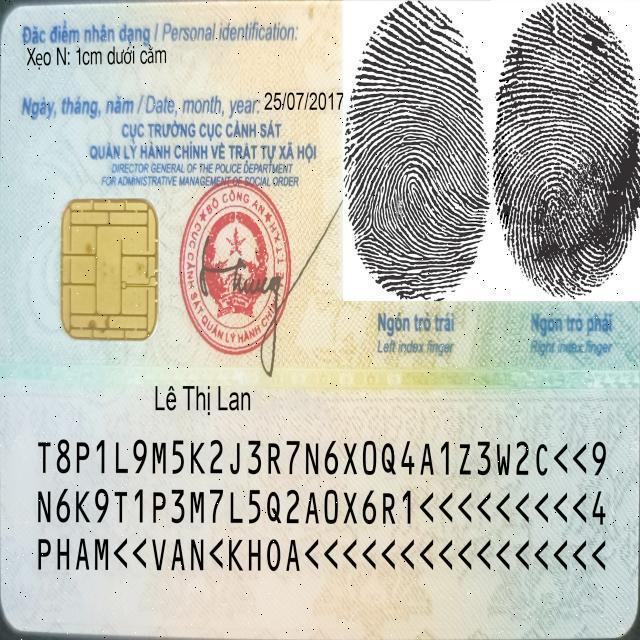features: (24, 42, 172, 72)
finger_print: (340, 4, 491, 363), (489, 5, 640, 361)
issue_date: (262, 88, 345, 114)
